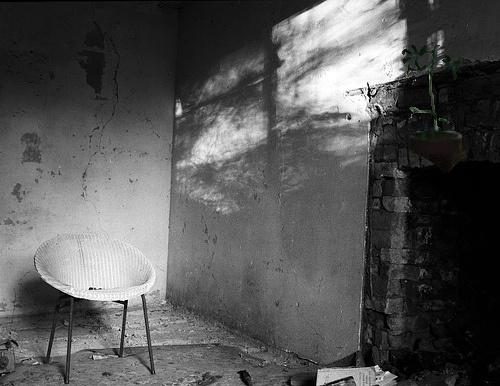tampered: (403, 46, 462, 173)
